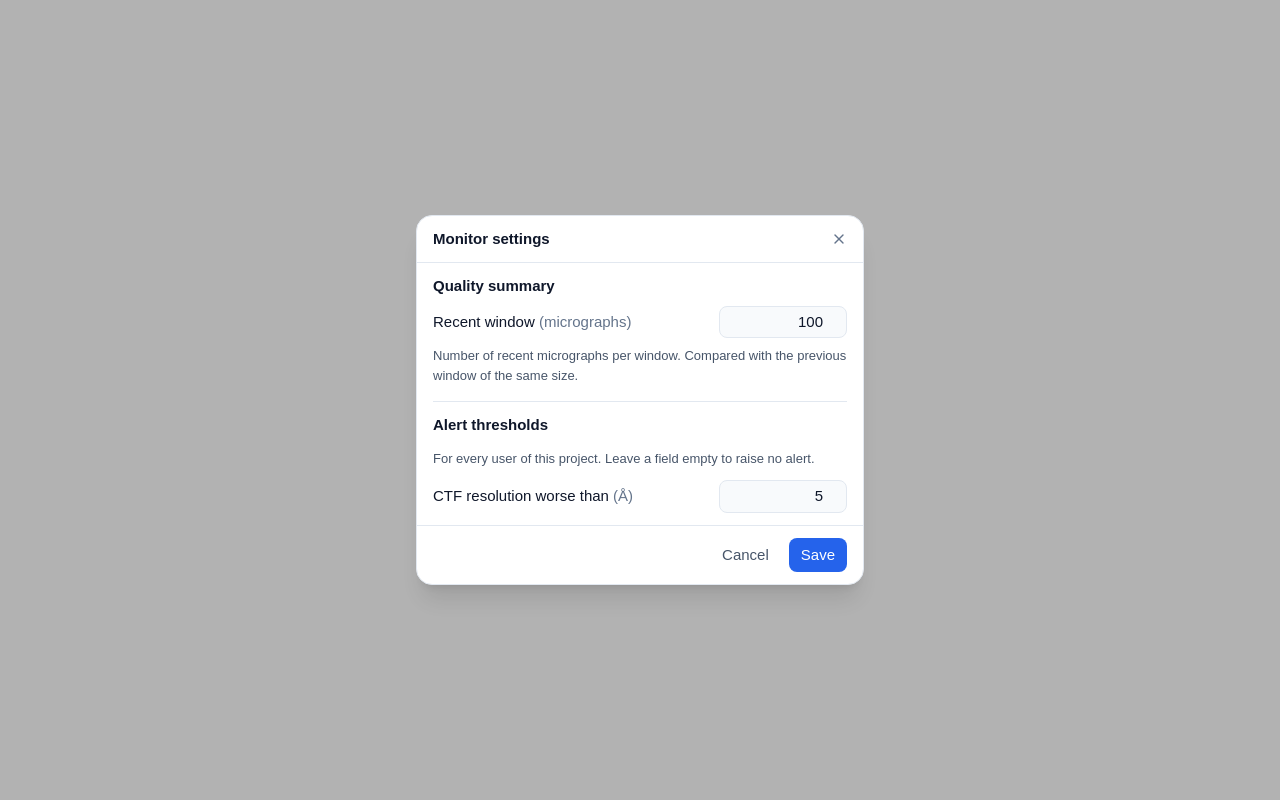
Test: Summary window in the thresholds dialog › rejects invalid window 0 before saving any project settings
Replace the text in the number field named "Quality summary window" with "0". click: [783, 322]
box: [719,306,847,338]
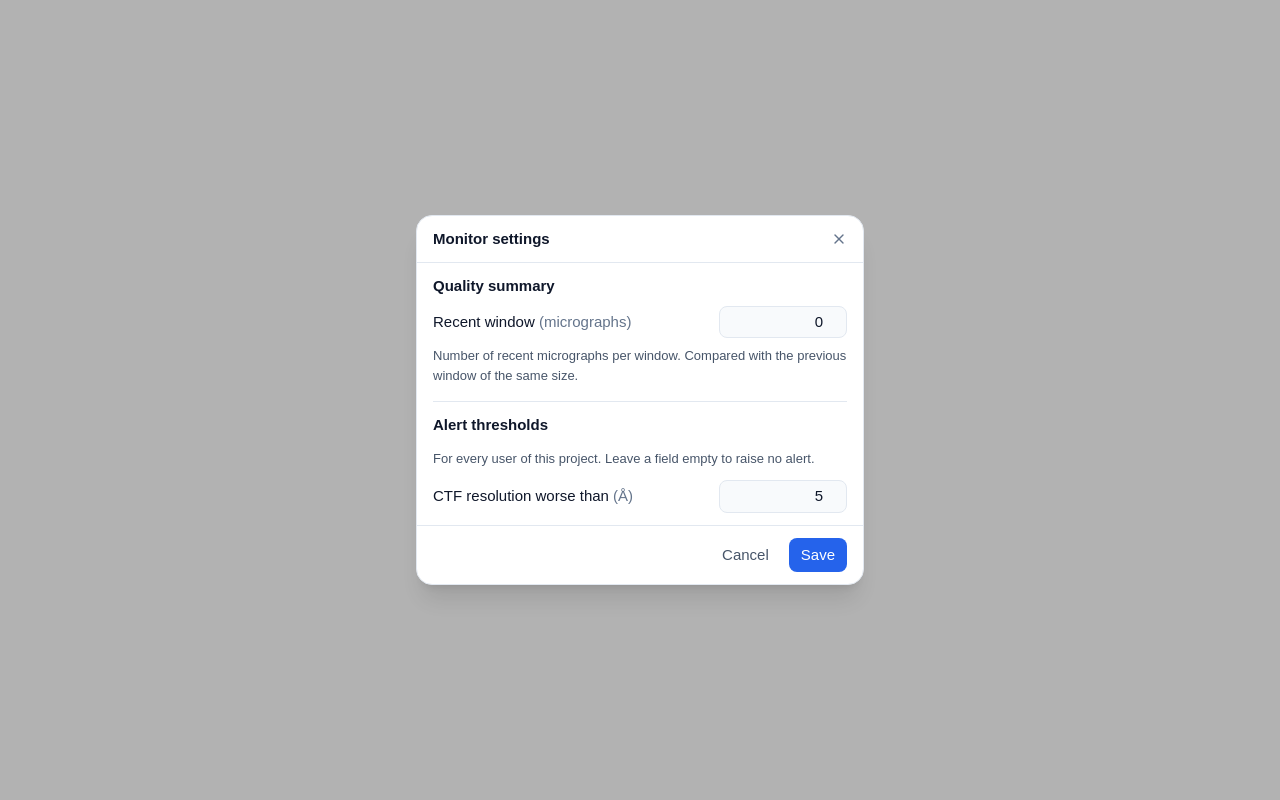
Click the button "Save". click: [818, 555]
box: [789,538,847,572]
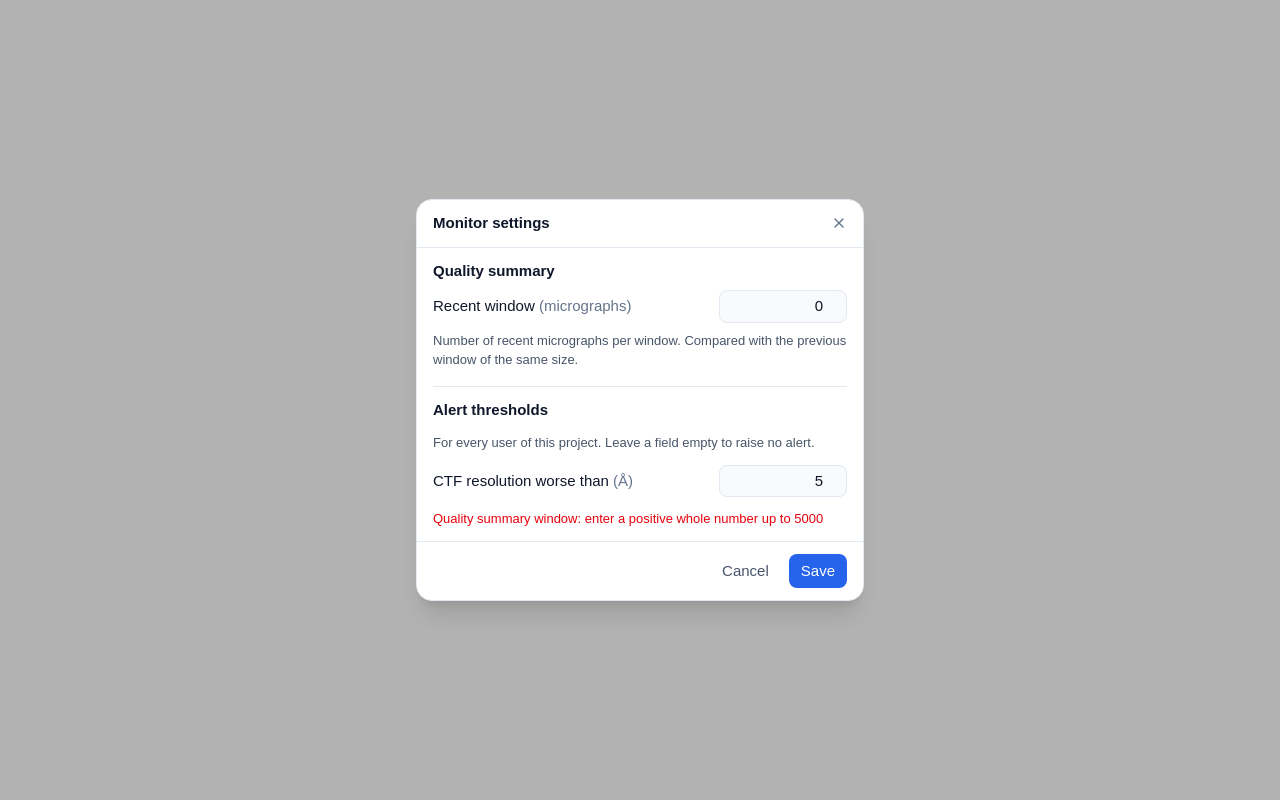
Expected: the message shows "positive whole number", [433,511,823,526]
